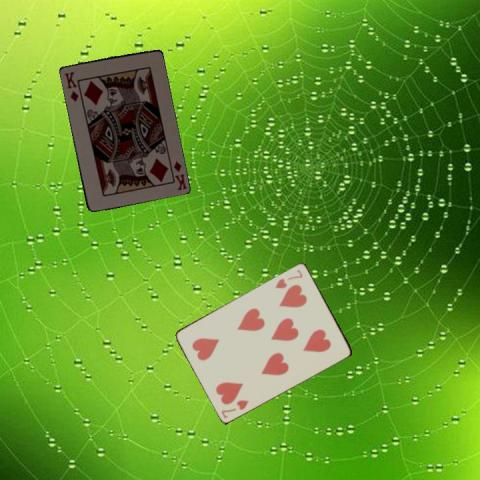7h: (272, 266, 304, 289), (218, 397, 250, 419)
Kd: (61, 69, 80, 103), (170, 158, 188, 191)
